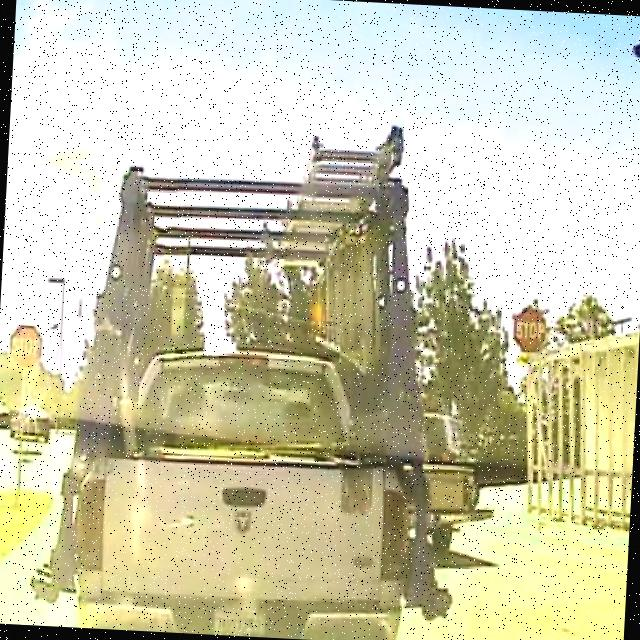Stop: (512, 308, 548, 354), (9, 324, 42, 373)
